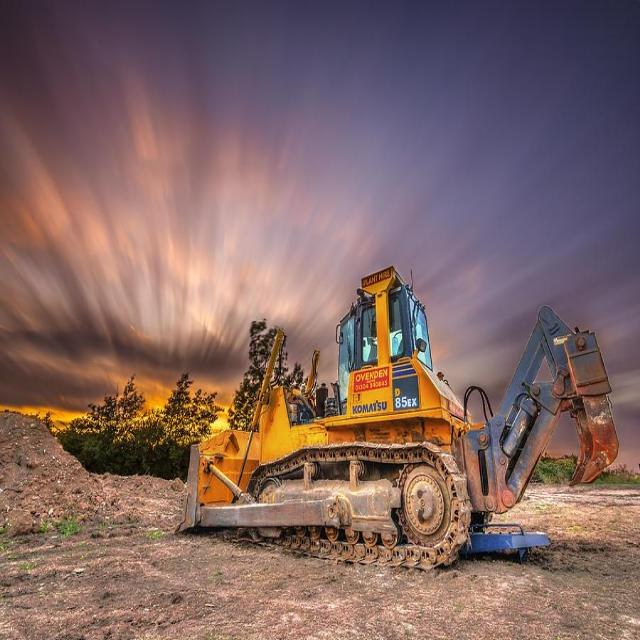Bulldozer: (171, 226, 621, 594)
